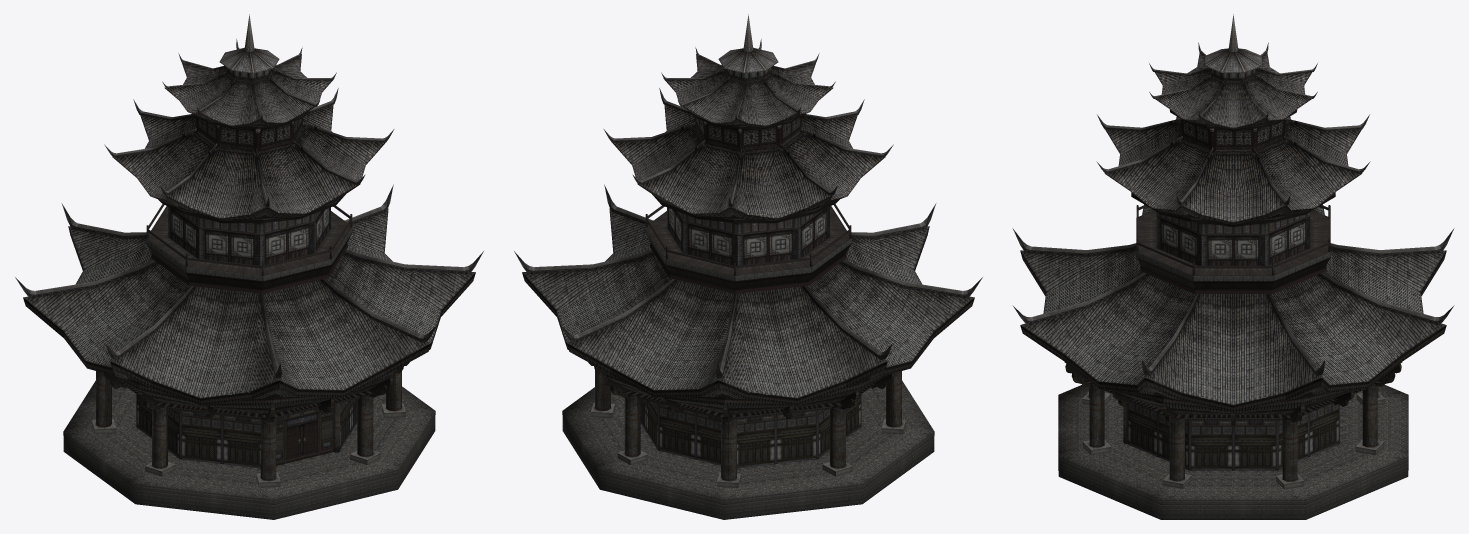
File: ep_4fbuilding.fbx
3 renders of one model, left to right at view 1: azimuth 30°, elevation 25°; view 2: azimuth 150°, elevation 25°; view 3: azimuth 270°, elevation 25°, orthographic.
Visible parts, largest first — view 1: ep_4Fbuilding_01; view 2: ep_4Fbuilding_01; view 3: ep_4Fbuilding_01.
Part boxes in pixels (<box>): ep_4Fbuilding_01: <box>15,14,483,519</box>; ep_4Fbuilding_01: <box>514,14,982,519</box>; ep_4Fbuilding_01: <box>1012,14,1454,519</box>.
Bounding box in the file's own units: 37.82 × 40.72 × 37.82.
